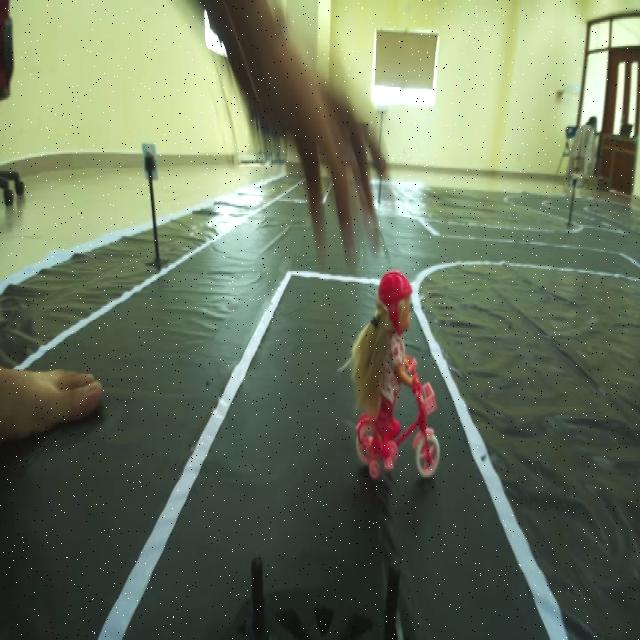pedestrian: (356, 281, 450, 489)
